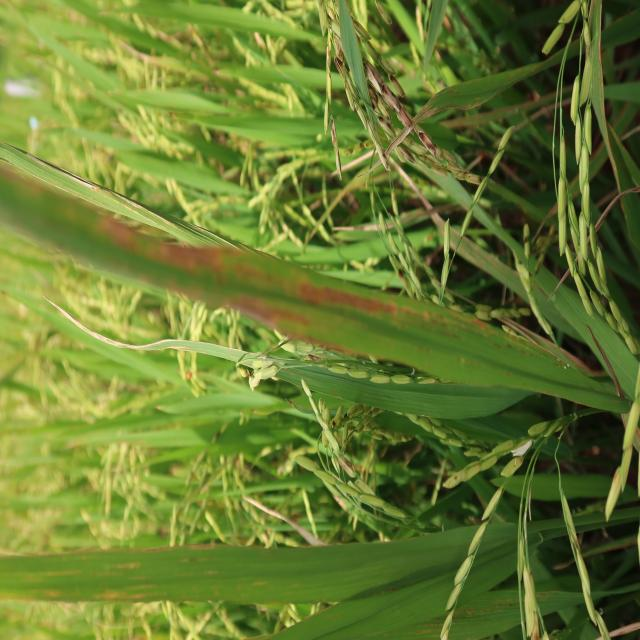Dom soc vi khuan: (0, 168, 630, 413)
